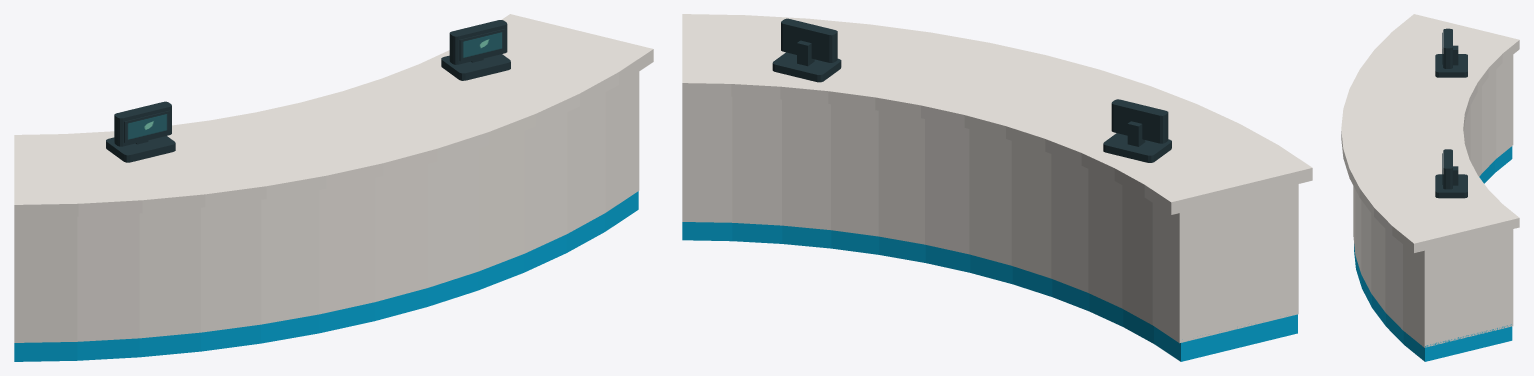
File: reception_counter.glb
3 views of the same model, side by side, from view 1: azimuth 30°, elevation 25°; view 2: azimuth 150°, elevation 25°; view 3: azimuth 270°, elevation 25° (orthographic). The views are drawn at different scales.
Parts seen in each view (by area): view 1: frutiger_aero_reception_counter; view 2: frutiger_aero_reception_counter; view 3: frutiger_aero_reception_counter.
Boxes of the visible parts, x1,y1,x2,y2 form: frutiger_aero_reception_counter: (14, 14, 653, 361); frutiger_aero_reception_counter: (682, 14, 1312, 361); frutiger_aero_reception_counter: (1341, 14, 1519, 361).
Bounding box in the file's own units: 4.5 × 1.38 × 1.48.
4 materials, 4 textured.
